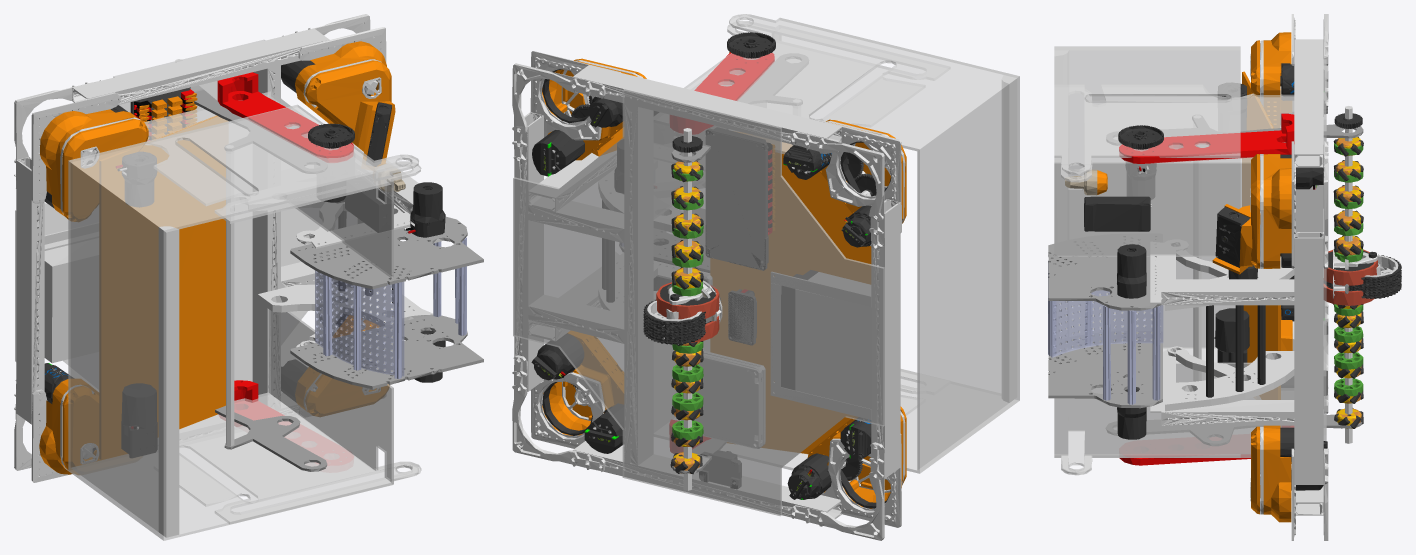
3 renders of one model, left to right at view 1: azimuth 30°, elevation 25°; view 2: azimuth 150°, elevation 25°; view 3: azimuth 270°, elevation 25°, orthographic. The views are drawn at different scales.
Parts seen in each view (by area): view 1: main_mesh, c0_mesh, c1_mesh; view 2: main_mesh, c0_mesh, c3_mesh, c2_mesh, c1_mesh, c9_mesh, c4_mesh, c8_mesh; view 3: main_mesh, c0_mesh, c1_mesh, c4_mesh, c2_mesh, c9_mesh, c3_mesh, c8_mesh.
Boxes of the visible parts, x1,y1,x2,y2 form: main_mesh: (14, 14, 483, 524); c0_mesh: (68, 104, 418, 540); c1_mesh: (191, 86, 327, 471); main_mesh: (512, 20, 949, 540); c0_mesh: (684, 14, 1019, 473); c3_mesh: (670, 128, 703, 490); c2_mesh: (672, 155, 703, 457); c1_mesh: (671, 53, 808, 473); c9_mesh: (643, 280, 722, 344); c4_mesh: (671, 128, 703, 489); c8_mesh: (656, 210, 719, 398); main_mesh: (1048, 14, 1328, 540); c0_mesh: (1054, 46, 1240, 474); c1_mesh: (1106, 115, 1363, 445); c4_mesh: (1333, 108, 1363, 443); c2_mesh: (1334, 130, 1363, 414); c9_mesh: (1323, 249, 1401, 306); c3_mesh: (1334, 106, 1363, 428); c8_mesh: (1323, 182, 1377, 357).
Size of the model in its own units: 0.6858 by 0.6858 by 0.6086.
